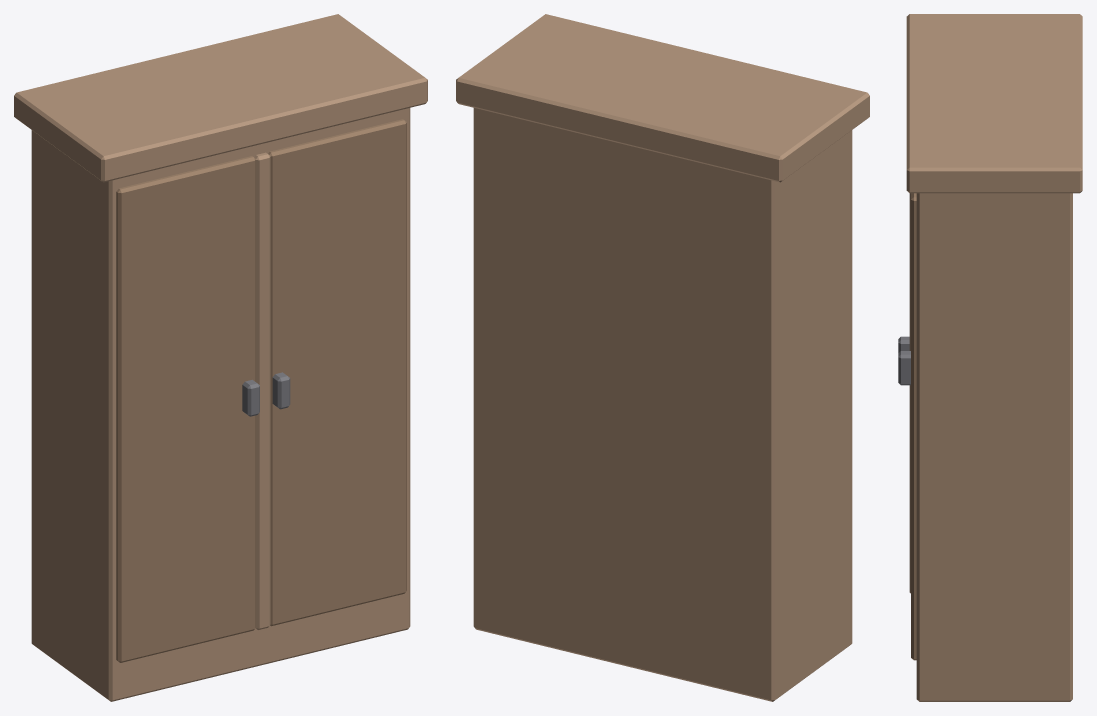
The model's file is SM_Wardrobe_01.fbx.
The picture shows the model from 3 angles, left to right: view 1: azimuth 30°, elevation 25°; view 2: azimuth 150°, elevation 25°; view 3: azimuth 270°, elevation 25°; orthographic projection. The views are drawn at different scales.
Visible parts, largest first — view 1: Wardrobe_01; view 2: Wardrobe_01; view 3: Wardrobe_01.
Part boxes in pixels (<box>): Wardrobe_01: <box>14,14,427,701</box>; Wardrobe_01: <box>456,14,869,701</box>; Wardrobe_01: <box>898,14,1082,701</box>.
Bounding box in the file's own units: 130 × 210 × 65.
